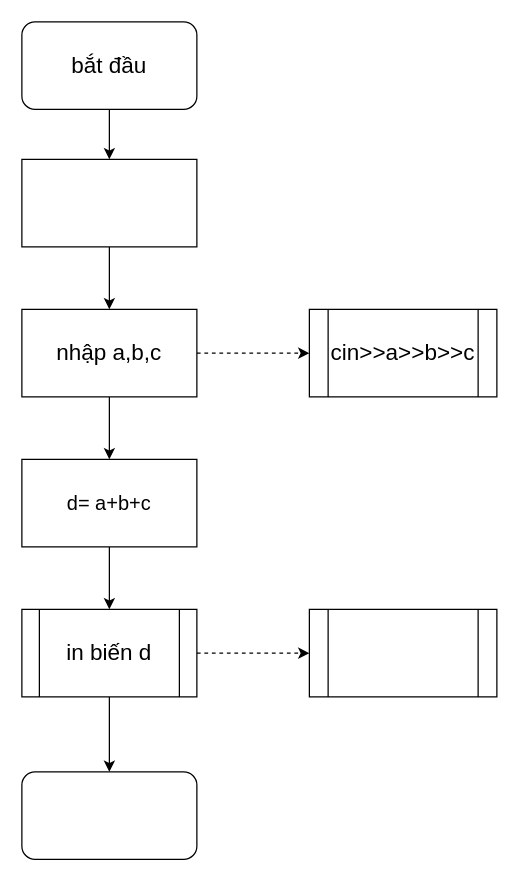
The diagram is 519 pixels wide and 881 high, and some of its shapes have lost their labels. Each missing label, with the centre of its shape:
"count<<d" belongs at [402,652].
"khai báo a,b,c,d" belongs at [109,202].
"kết thúc" belongs at [109,815].
